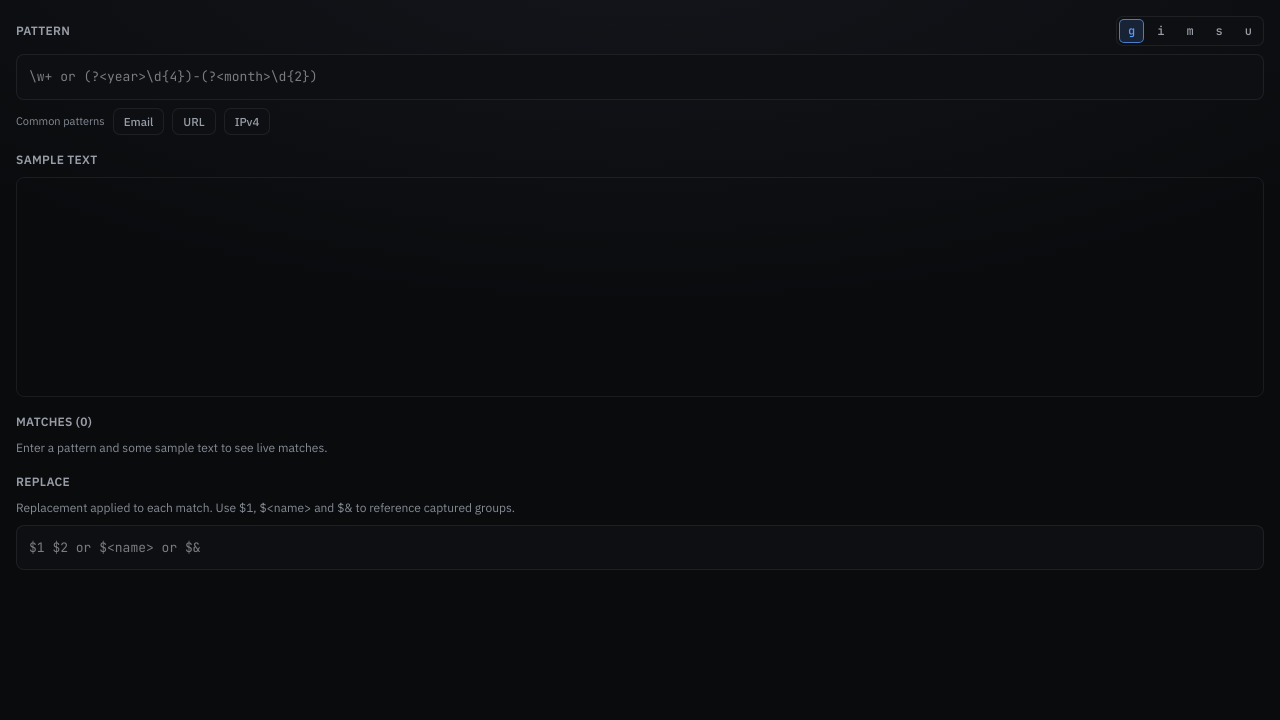
Test case: RegexTool › clicking a library chip OVERWRITES a non-empty pattern, no confirm (RGX-05/D-11)
This screenshot has width=1280, height=720.
Type "OLD" into the field with id "regex-pattern".
click(640, 77); type("OLD")  # box [16,54,1264,100]
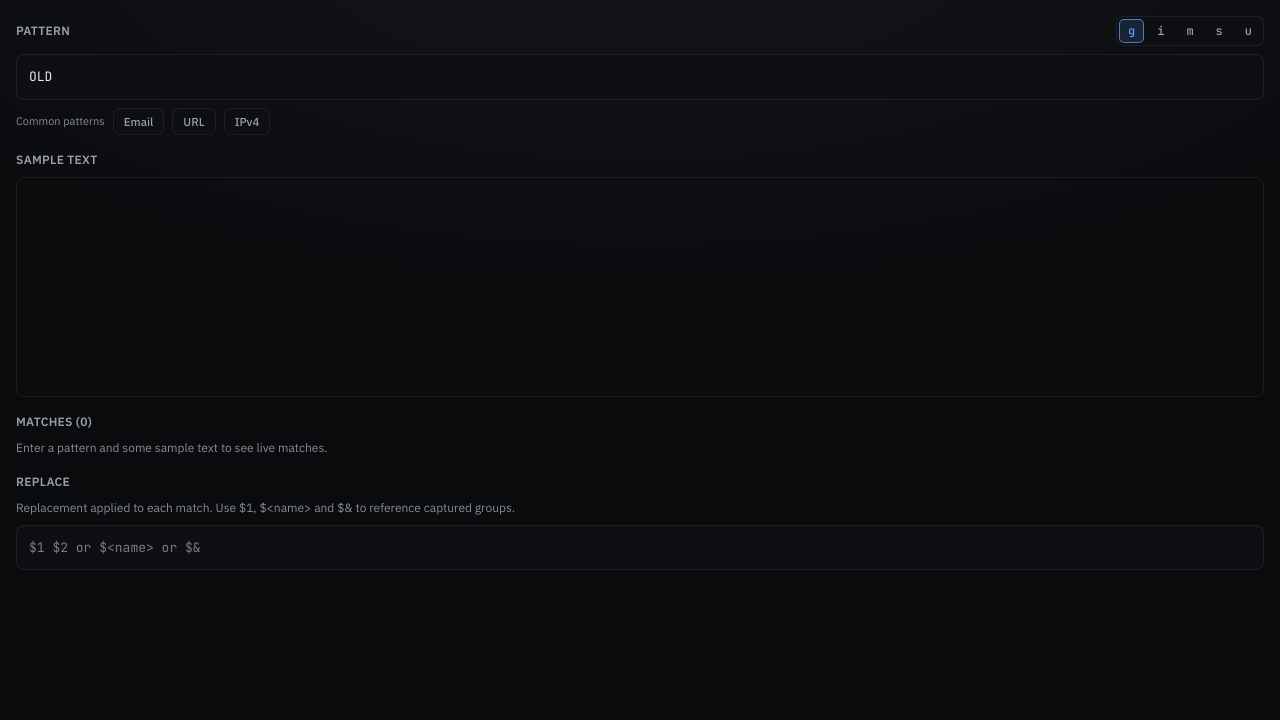
Click the button "Email".
click(138, 121)  # box [113,108,164,135]
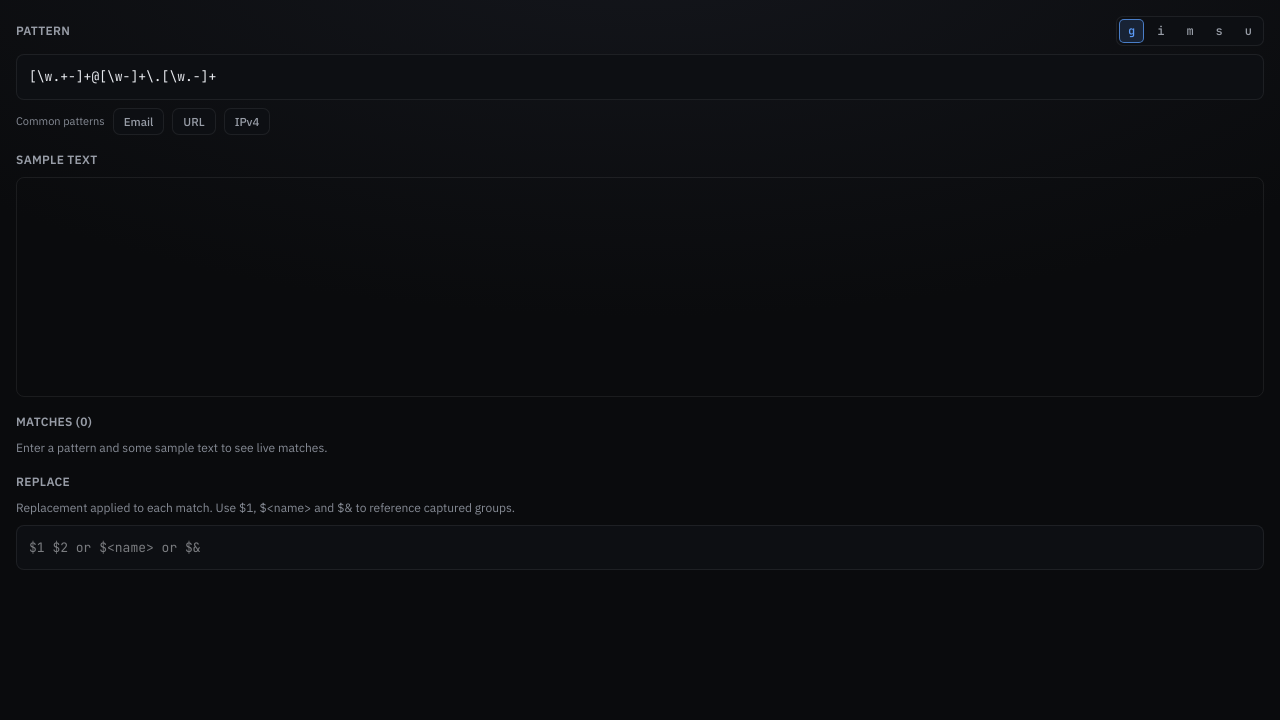
Now the field with id "regex-pattern" does not hold "OLD", box [16,54,1264,100]
